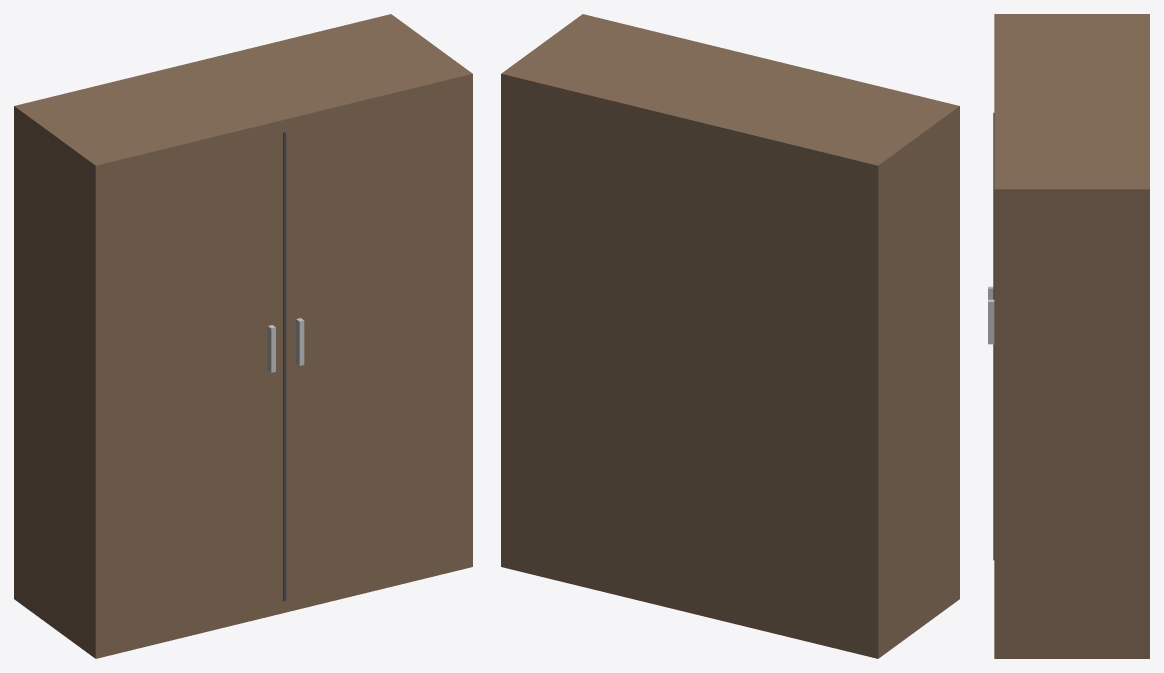
Rendered from 1760-Furniture-interiors-wardrobe.glb.
3 views of the same model, side by side, from view 1: azimuth 30°, elevation 25°; view 2: azimuth 150°, elevation 25°; view 3: azimuth 270°, elevation 25° (orthographic). The views are drawn at different scales.
Parts seen in each view (by area): view 1: Furniture (interiors)/wardrobe; view 2: Furniture (interiors)/wardrobe; view 3: Furniture (interiors)/wardrobe.
Boxes of the visible parts, x1,y1,x2,y2 form: Furniture (interiors)/wardrobe: (14, 14, 472, 658); Furniture (interiors)/wardrobe: (501, 14, 959, 658); Furniture (interiors)/wardrobe: (988, 14, 1149, 658).
Bounding box in the file's own units: 1.6 × 2 × 0.625.
